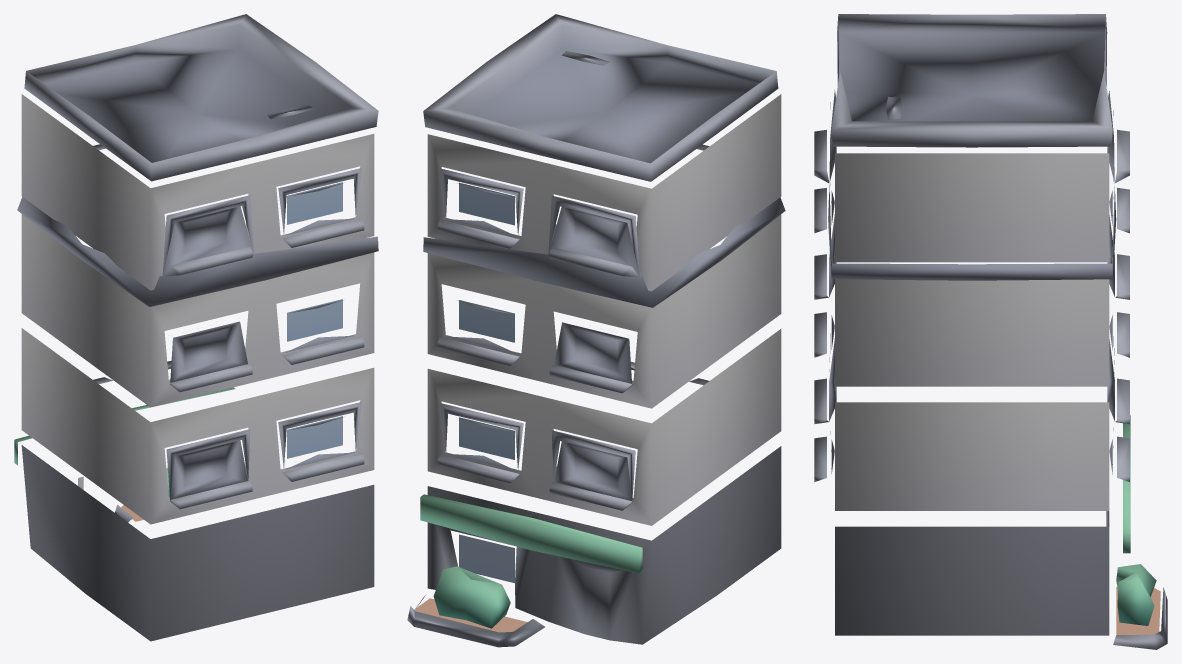
3 views of the same model, side by side, from view 1: azimuth 30°, elevation 25°; view 2: azimuth 150°, elevation 25°; view 3: azimuth 270°, elevation 25° (orthographic). The views are drawn at different scales.
Bounding box in the file's own units: 6.72 × 13.44 × 8.24.
